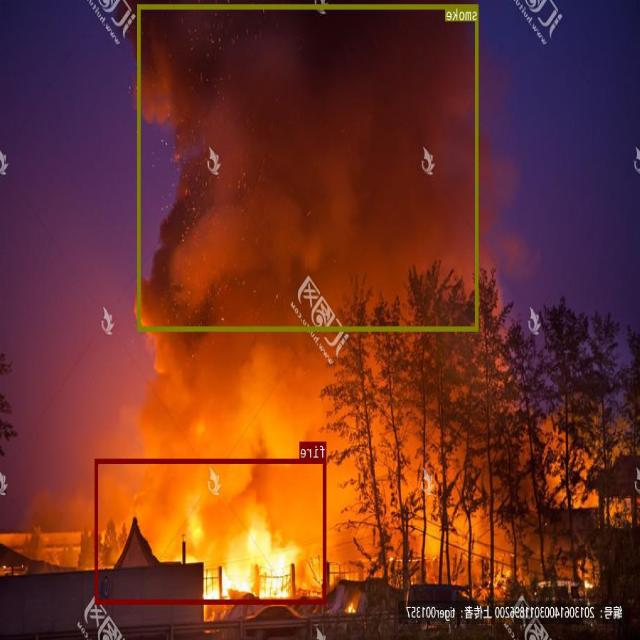fire: (96, 458, 327, 603)
smoke: (138, 4, 479, 330)
